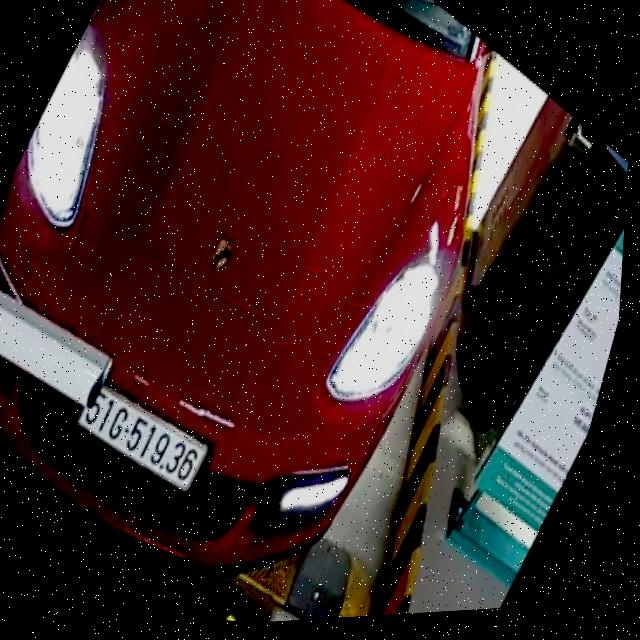car: (0, 0, 532, 629)
plate: (55, 365, 226, 504)
